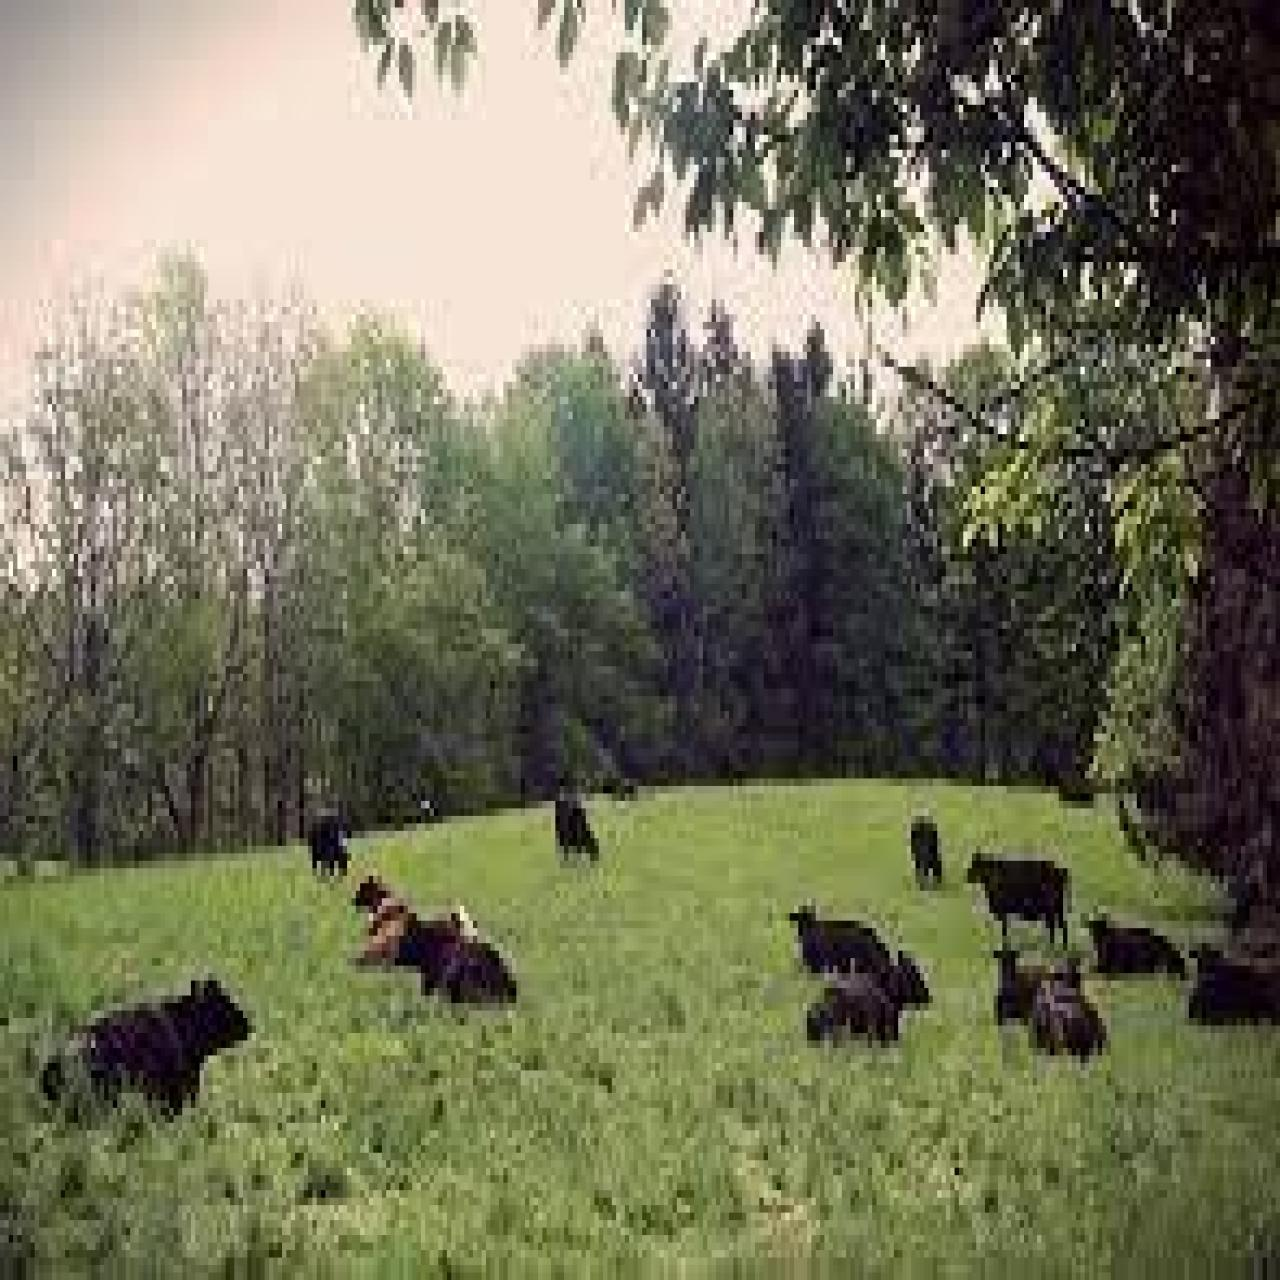cow: (39, 976, 252, 1126), (806, 947, 933, 1044), (397, 910, 519, 1007), (965, 845, 1074, 951), (1189, 942, 1280, 1033), (1081, 906, 1189, 980), (992, 940, 1078, 1029), (790, 898, 890, 973), (1033, 969, 1110, 1060), (355, 872, 413, 969), (553, 782, 601, 865), (308, 805, 355, 887), (910, 809, 944, 891)
